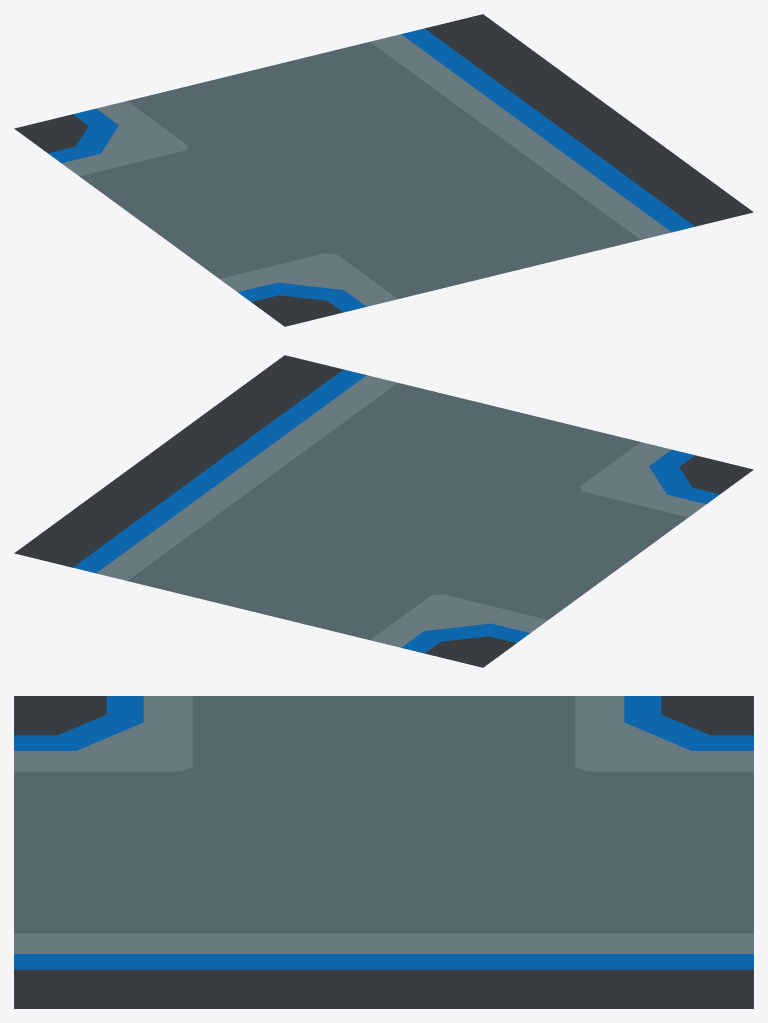
The model's file is Ceiling_type_C_052.004.fbx.
The picture shows the model from 3 angles, top to bottom: view 1: azimuth 30°, elevation 25°; view 2: azimuth 150°, elevation 25°; view 3: azimuth 270°, elevation 25°; orthographic projection. The views are drawn at different scales.
Parts seen in each view (by area): view 1: Ceiling_type_C_052.004; view 2: Ceiling_type_C_052.004; view 3: Ceiling_type_C_052.004.
Part boxes in pixels (x1,y1,x2,y2): Ceiling_type_C_052.004: [14, 14, 753, 326]; Ceiling_type_C_052.004: [14, 355, 753, 667]; Ceiling_type_C_052.004: [14, 696, 753, 1008].
Size of the model in its own units: 400 by 400 by 3.5.
